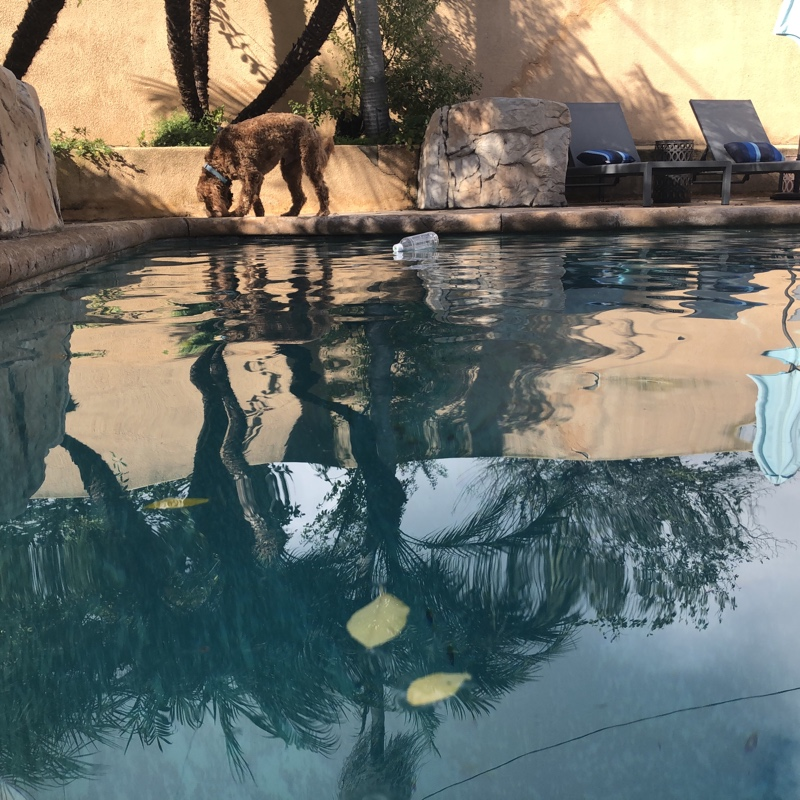Plastic Bottle: (391, 229, 443, 257)
